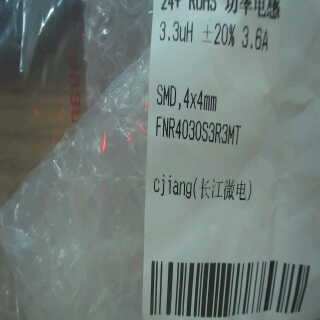3.3uH: (158, 16, 198, 48)
